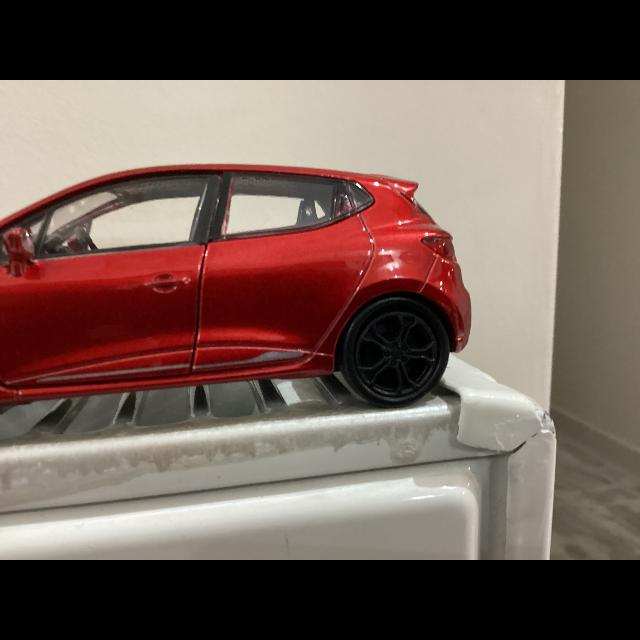Dogru_Jant: (357, 311, 439, 397)
